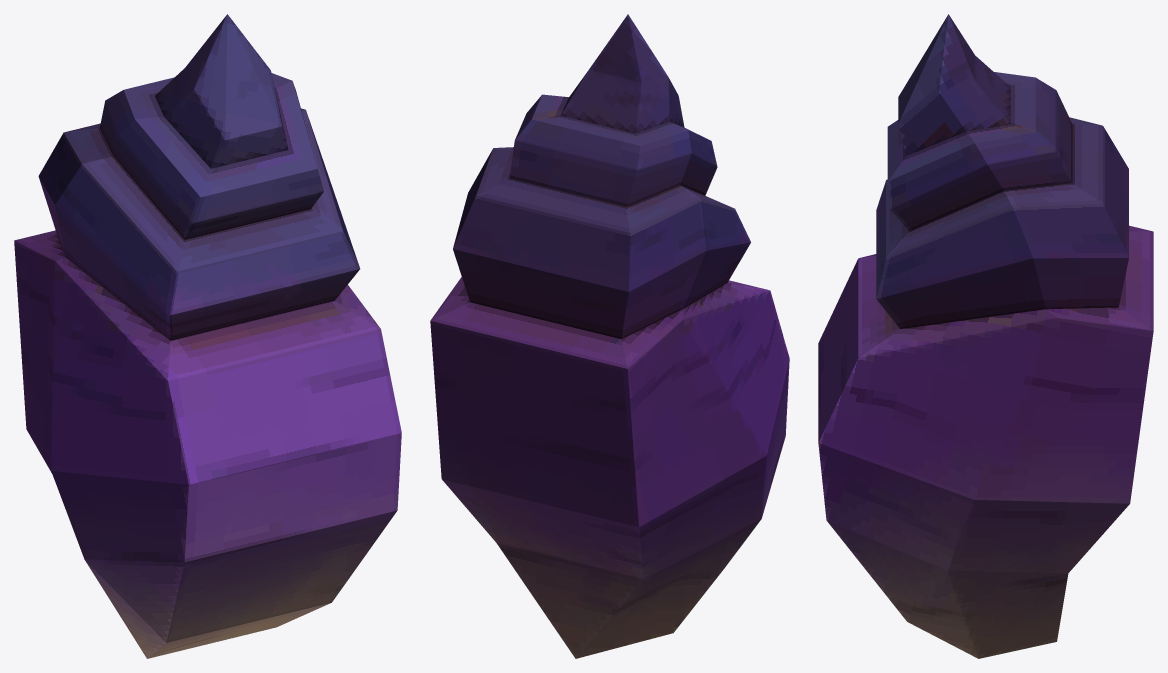
The model's file is item_bait_shell.glb.
The picture shows the model from 3 angles, left to right: view 1: azimuth 30°, elevation 25°; view 2: azimuth 150°, elevation 25°; view 3: azimuth 270°, elevation 25°; orthographic projection. The views are drawn at different scales.
Visible parts, largest first — view 1: Bait_shell; view 2: Bait_shell; view 3: Bait_shell.
Part boxes in pixels (left/top/right/bottom): Bait_shell: left=14, top=14, right=401, bottom=658; Bait_shell: left=430, top=14, right=789, bottom=658; Bait_shell: left=818, top=14, right=1153, bottom=658.
Size of the model in its own units: 0.1041 by 0.1997 by 0.0967.
Materials: 1 (1 with a texture image).
